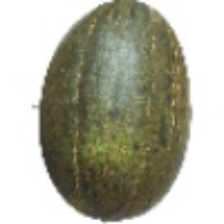honeydew: (45, 22, 180, 181)
